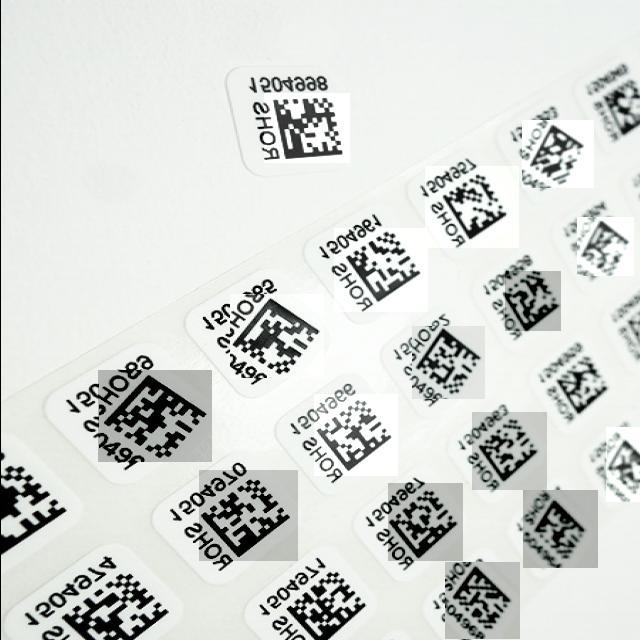Data-Matrix: (97, 370, 211, 462), (198, 470, 297, 561), (54, 570, 174, 639), (229, 294, 323, 378), (333, 228, 427, 312), (424, 166, 518, 248), (313, 394, 397, 476), (263, 93, 349, 163), (387, 483, 462, 561), (471, 412, 546, 490), (522, 490, 597, 568), (444, 562, 519, 639), (411, 326, 484, 399), (521, 120, 593, 188), (576, 217, 633, 276), (504, 271, 560, 331), (605, 427, 639, 502)
